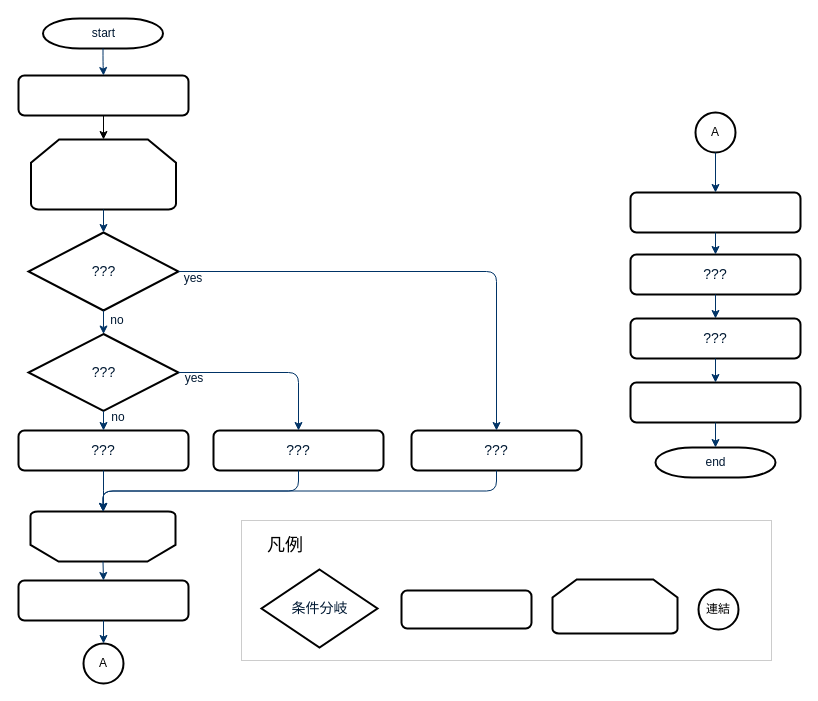
Image size: 818x701. Some labels were removed from this diagram. Here are the shapes that lost their labels. From the top down, the centre of each, then its label:
(x=103, y=95): 社員情報CSVオープン
(x=103, y=174): ファイルを 1行ずつ読込 終端まで繰り返し
(x=715, y=212): ???オープン
(x=715, y=402): ???クローズ
(x=103, y=600): 社員情報CSVクローズ
(x=466, y=609): 処理
(x=614, y=606): 繰り返し
